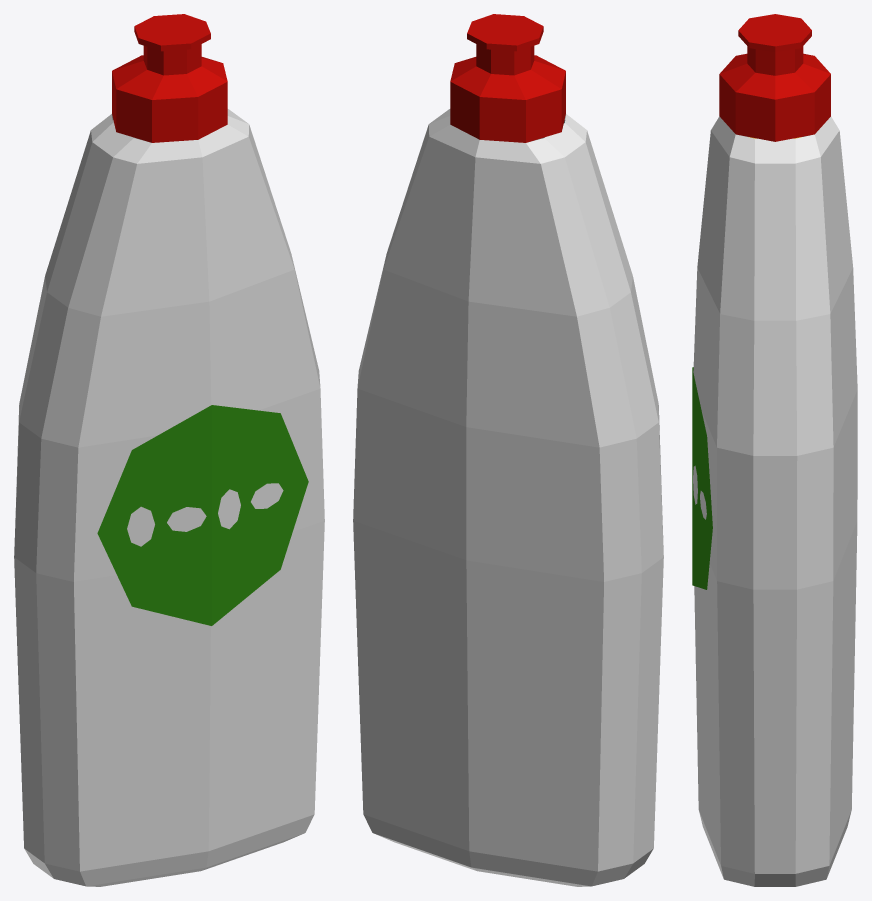
The model's file is Ma_Detergent_Dish_1.fbx.
3 views of the same model, side by side, from view 1: azimuth 30°, elevation 25°; view 2: azimuth 150°, elevation 25°; view 3: azimuth 270°, elevation 25° (orthographic).
Parts seen in each view (by area): view 1: Ma_Detergent_Dish_1; view 2: Ma_Detergent_Dish_1; view 3: Ma_Detergent_Dish_1.
Part boxes in pixels (x1,y1,x2,y2): Ma_Detergent_Dish_1: (14,14,324,886); Ma_Detergent_Dish_1: (353,14,663,886); Ma_Detergent_Dish_1: (692,14,857,886).
Bounding box in the file's own units: 77.03 × 38.89 × 209.
